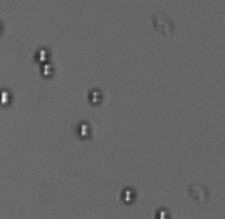Living Cell: (75, 121, 94, 139), (119, 186, 136, 205), (88, 87, 102, 106), (35, 47, 51, 63), (1, 87, 13, 108), (40, 62, 55, 77)
